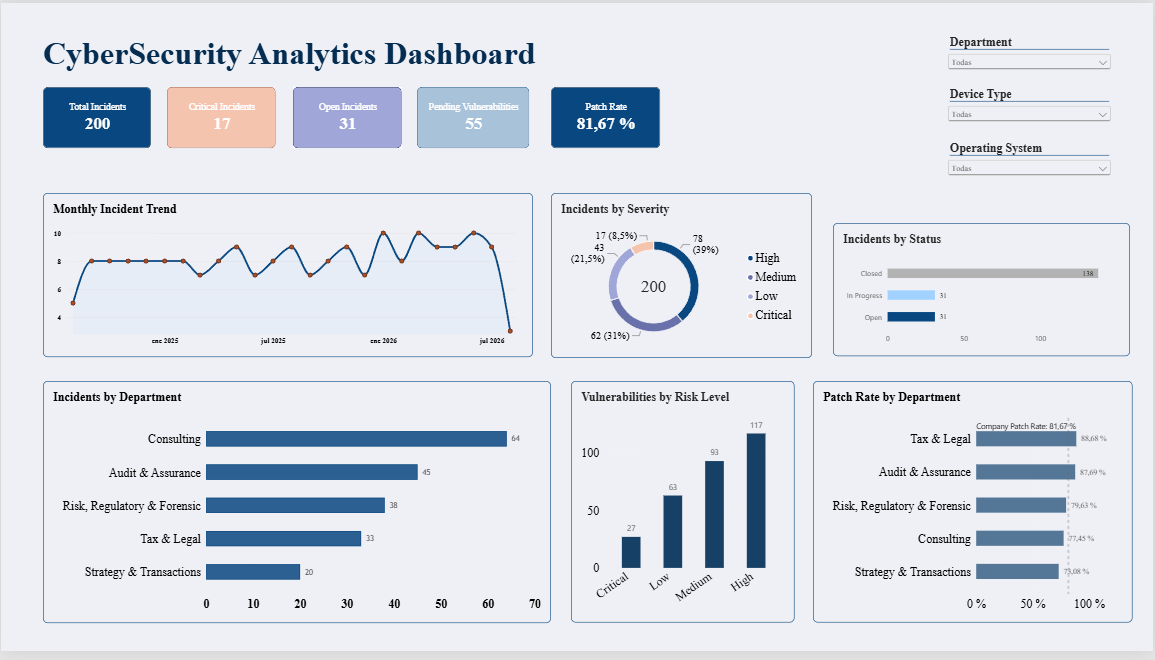

What the dashboard file says about the page in this screenshot:
{"tool":"powerbi","page":{"name":"Página 1","canvas":[1920,1080],"ordinal":0},"visuals":[{"type":"barChart","title":"Incidents by Department","fields":{"Category":["Departments.DepartmentName"],"Y":["Incidents.TotalIncidents"]},"box":[70,630,846.7,403.3],"z":6},{"type":"columnChart","title":"Vulnerabilities by Risk Level","fields":{"Category":["Vulnerabilities.RiskLevel"],"Y":["Vulnerabilities.TotalVulnerabilities"]},"box":[950,630,372.5,402.5],"z":11},{"type":"barChart","title":"Patch Rate by Department","fields":{"Category":["Departments.DepartmentName"],"Y":["Vulnerabilities.PatchRate"]},"box":[1352.5,630,532.5,402.5],"z":13},{"type":"textbox","box":[70,52.5,890,87.5],"z":15},{"type":"lineChart","title":"Monthly Incident Trend","fields":{"Category":["Incidents.ReportedDate.Variación.Jerarquía de fechas.Año","Incidents.ReportedDate.Variación.Jerarquía de fechas.Mes"],"Y":["CountNonNull(Incidents.IncidentID)"]},"box":[70,317.5,816.7,273.3],"z":16},{"type":"cardVisual","fields":{"Data":["Incidents.TotalIncidents"]},"box":[70,140,180,102.5],"z":17},{"type":"cardVisual","fields":{"Data":["Vulnerabilities.PendingVulnerabilities"]},"box":[694.4,140,187.8,102.2],"z":20},{"type":"cardVisual","fields":{"Data":["Vulnerabilities.PatchRate"]},"box":[917.8,140,182.2,102.2],"z":21},{"type":"slicer","fields":{"Values":["Departments.DepartmentName"]},"box":[1572.5,52.5,281.7,73.3],"z":25},{"type":"slicer","fields":{"Values":["Devices.DeviceType"]},"box":[1572.5,140,281.2,73.8],"z":26},{"type":"slicer","fields":{"Values":["Devices.Operating System"]},"box":[1572.5,231.2,281.2,70],"z":27},{"type":"cardVisual","fields":{"Data":["Incidents.Critical Incidents"]},"box":[275,140,181.2,102.5],"z":28},{"type":"donutChart","title":"Incidents by Severity","fields":{"Category":["Incidents.Severity"],"Y":["Incidents.Total Incidents"]},"box":[917.5,317.5,435,275],"z":29},{"type":"barChart","title":"Incidents by Status","fields":{"Category":["Incidents.Status"],"Y":["Incidents.Total Incidents"]},"box":[1388,368,495,222],"z":30},{"type":"cardVisual","fields":{"Data":["Incidents.Open Incidents"]},"box":[486.2,140,181.2,102.5],"z":31}]}

Visuals, with their boxes in screenshot pixels (x1, y1, x2, y2), scaled from the page's 1920x1080 canvas onto the 1155x660 screenshot:
"Incidents by Department" barChart: box=[42, 385, 551, 631]
"Vulnerabilities by Risk Level" columnChart: box=[571, 385, 796, 631]
"Patch Rate by Department" barChart: box=[814, 385, 1134, 631]
textbox: box=[42, 32, 578, 86]
"Monthly Incident Trend" lineChart: box=[42, 194, 533, 361]
cardVisual - Incidents.TotalIncidents: box=[42, 86, 150, 148]
cardVisual - Vulnerabilities.PendingVulnerabilities: box=[418, 86, 531, 148]
cardVisual - Vulnerabilities.PatchRate: box=[552, 86, 662, 148]
slicer - Departments.DepartmentName: box=[946, 32, 1115, 77]
slicer - Devices.DeviceType: box=[946, 86, 1115, 131]
slicer - Devices.Operating System: box=[946, 141, 1115, 184]
cardVisual - Incidents.Critical Incidents: box=[165, 86, 274, 148]
"Incidents by Severity" donutChart: box=[552, 194, 814, 362]
"Incidents by Status" barChart: box=[835, 225, 1133, 361]
cardVisual - Incidents.Open Incidents: box=[292, 86, 401, 148]
